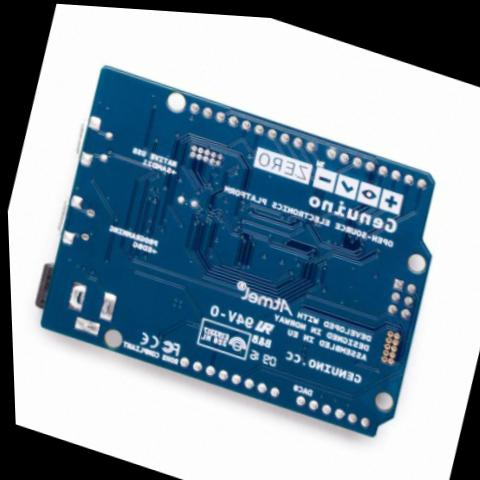Arduino-Zero: (1, 25, 479, 458)
